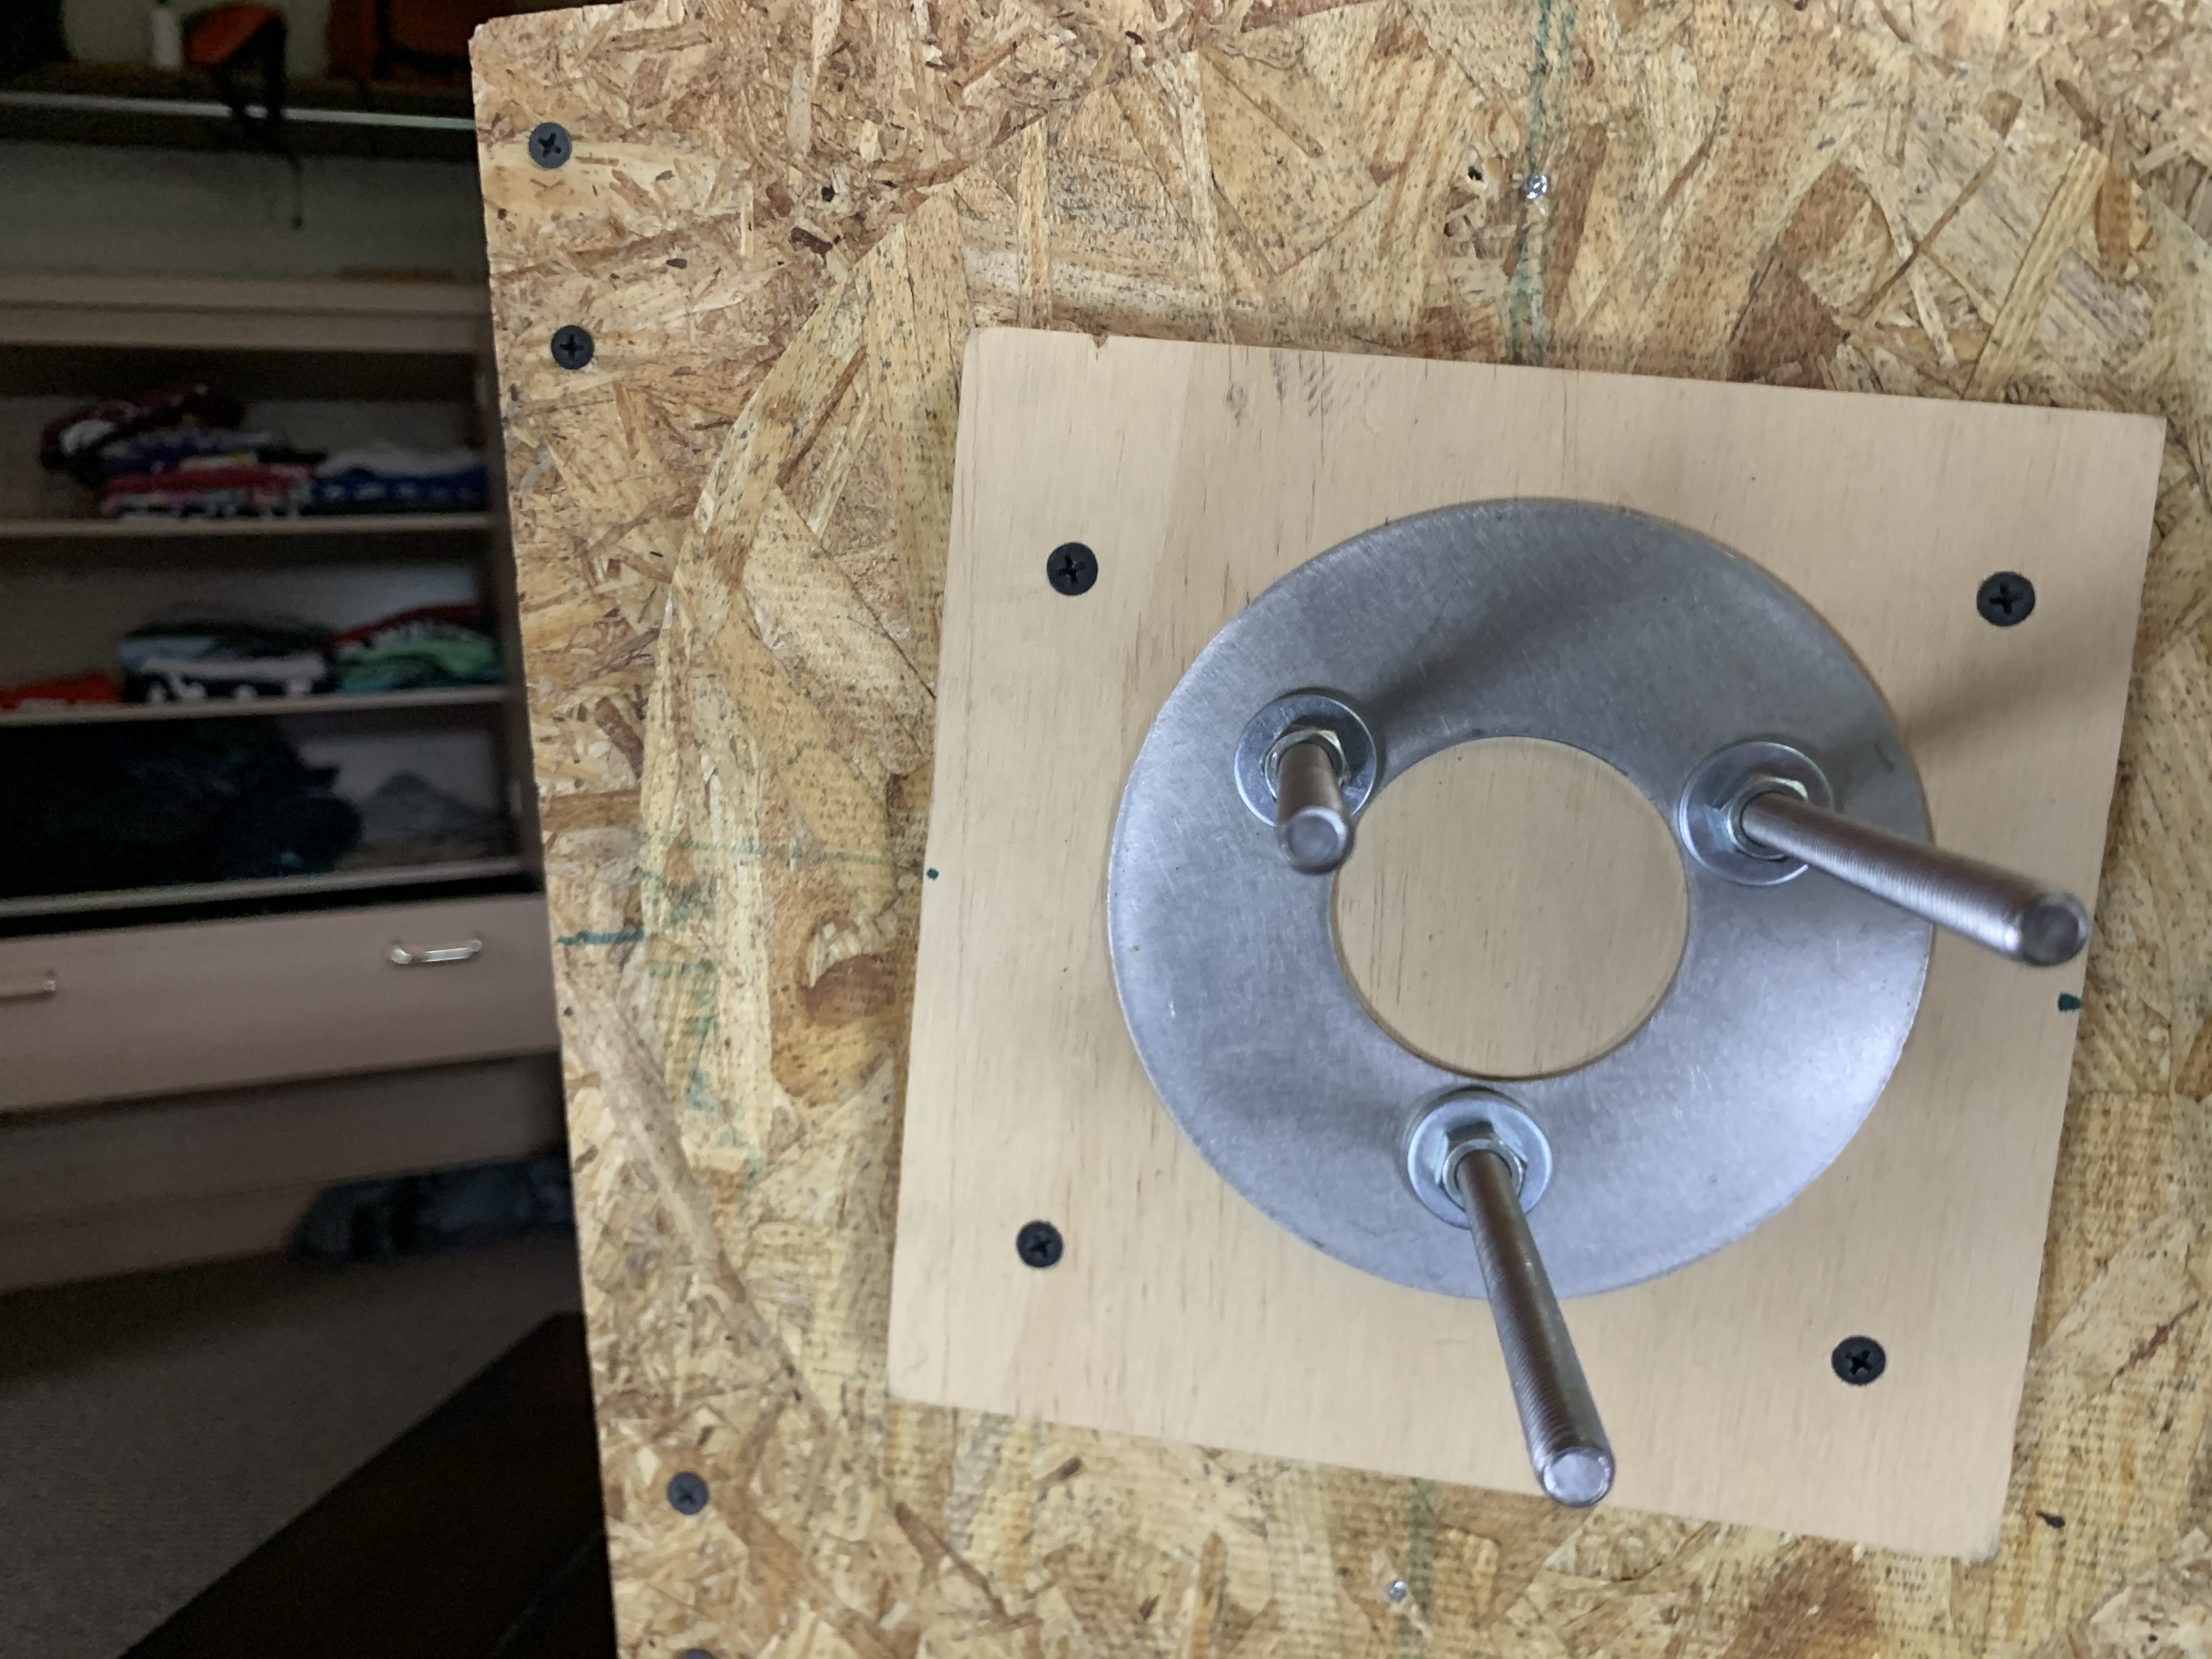bolt: (1676, 734, 1832, 897), (1400, 1086, 1557, 1232), (1237, 687, 1385, 830)
